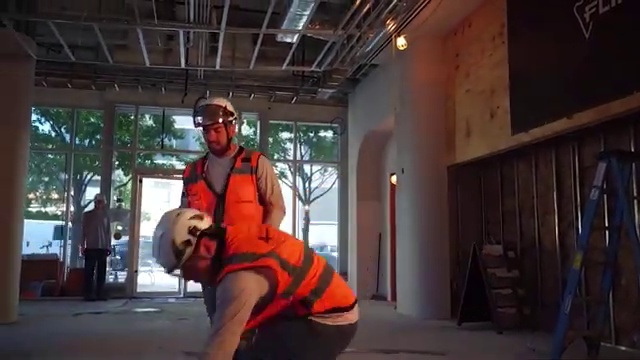helmet: (135, 210, 212, 270), (188, 97, 239, 125)
jacket: (220, 225, 360, 328), (174, 155, 282, 211)
